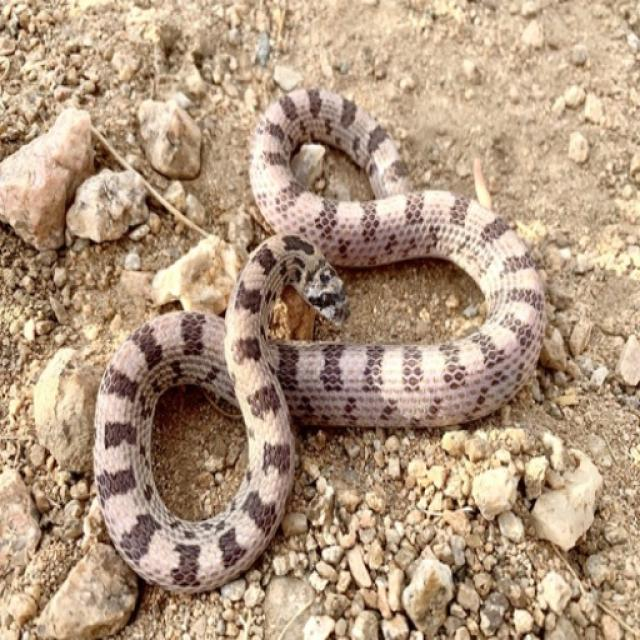snake: (88, 79, 552, 600)
